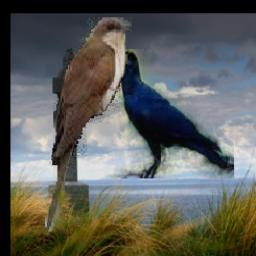Crow: (102, 50, 234, 180)
Cuckoo: (46, 18, 133, 234)
